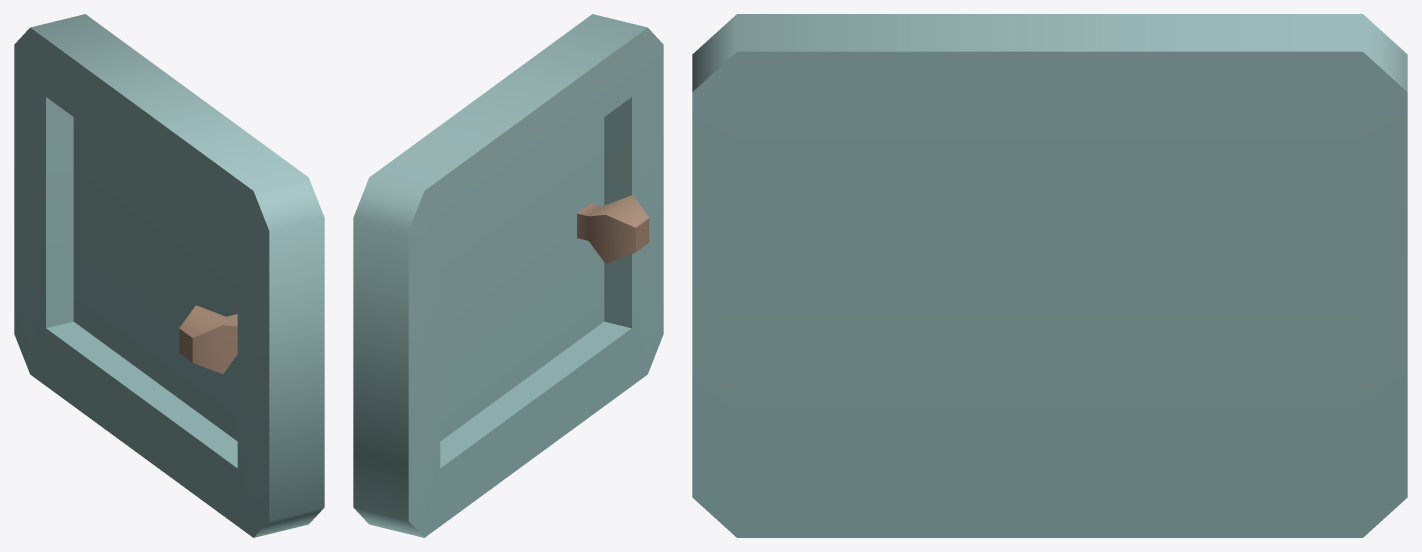
The model's file is (%no-merge) (%open-left) (%low) 7.glb.
3 views of the same model, side by side, from view 1: azimuth 30°, elevation 25°; view 2: azimuth 150°, elevation 25°; view 3: azimuth 270°, elevation 25° (orthographic). The views are drawn at different scales.
Visible parts, largest first — view 1: (%no-merge) (%open-left) (%low) 7(Clone); view 2: (%no-merge) (%open-left) (%low) 7(Clone); view 3: (%no-merge) (%open-left) (%low) 7(Clone).
Part boxes in pixels (x1,y1,x2,y2): (%no-merge) (%open-left) (%low) 7(Clone): (14, 14, 324, 537); (%no-merge) (%open-left) (%low) 7(Clone): (353, 14, 663, 537); (%no-merge) (%open-left) (%low) 7(Clone): (692, 14, 1407, 537).
Size of the model in its own units: 0.0782 by 0.3 by 0.4.
